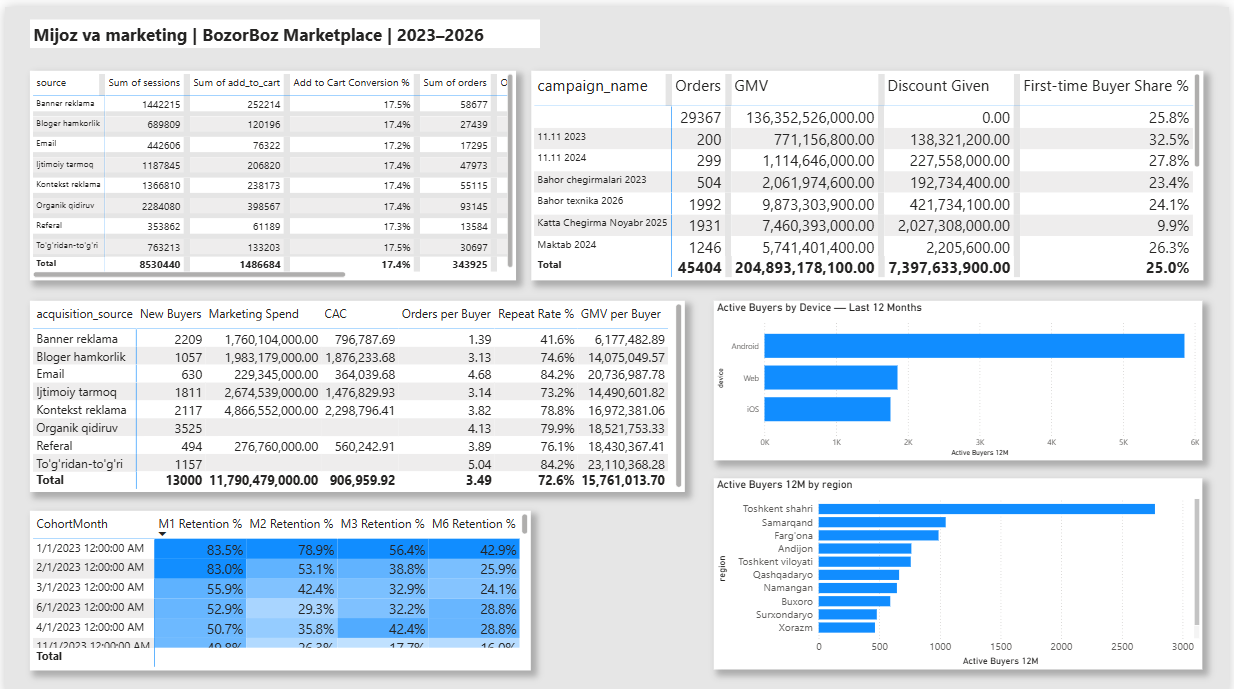

This screenshot's page, from the dashboard's own definition file:
{"tool":"powerbi","page":{"name":"Mijoz va marketing","canvas":[1920,1080],"ordinal":4},"visuals":[{"type":"textbox","box":[40,20,800,45],"z":0},{"type":"pivotTable","fields":{"Rows":["fact_session_daily.source"],"Values":["Sum(fact_session_daily.sessions)","Sum(fact_session_daily.add_to_cart)","BB_Measures.Add to Cart Conversion %","Sum(fact_session_daily.orders)","BB_Measures.Order Conversion from Cart %","BB_Measures.Conversion %"]},"box":[39.6,100,762.5,329.2],"z":1000},{"type":"pivotTable","fields":{"Rows":["dim_customer.acquisition_source"],"Values":["BB_Measures.New Buyers","BB_Measures.Marketing Spend","BB_Measures.CAC","BB_Measures.Orders per Buyer","BB_Measures.Repeat Rate %","BB_Measures.GMV per Buyer"]},"box":[39.6,460.4,1027.1,300],"z":2000},{"type":"pivotTable","fields":{"Values":["BB_Measures.M1 Retention %","BB_Measures.M2 Retention %","BB_Measures.M3 Retention %","BB_Measures.M6 Retention %"],"Rows":["Cohort.CohortMonth"]},"box":[39.6,789.6,785.4,250],"z":3000},{"type":"pivotTable","fields":{"Rows":["dim_campaign.campaign_name"],"Values":["BB_Measures.Orders","BB_Measures.GMV","BB_Measures.Discount Given","BB_Measures.First-time Buyer Share %"]},"box":[825,100,1054.2,329.2],"z":4000},{"type":"clusteredBarChart","title":"Active Buyers by Device — Last 12 Months","fields":{"Category":["dim_customer.device"],"Y":["BB_Measures.Active Buyers 12M"]},"box":[1112.5,460.4,766.7,250],"z":5000},{"type":"clusteredBarChart","fields":{"Category":["dim_customer.region"],"Y":["BB_Measures.Active Buyers 12M"]},"box":[1112.5,739.6,766.7,300],"z":6000}]}

Visuals, with their boxes in screenshot pixels (x1, y1, x2, y2), scaled from the page's 1920x1080 canvas onto the 1234x689 screenshot:
textbox: <box>26,13,540,41</box>
pivotTable - fact_session_daily.source x Sum(fact_session_daily.sessions): <box>25,64,516,274</box>
pivotTable - dim_customer.acquisition_source x BB_Measures.New Buyers: <box>25,294,686,485</box>
pivotTable - BB_Measures.M1 Retention % x BB_Measures.M2 Retention %: <box>25,504,530,663</box>
pivotTable - dim_campaign.campaign_name x BB_Measures.Orders: <box>530,64,1208,274</box>
"Active Buyers by Device — Last 12 Months" clusteredBarChart: <box>715,294,1208,453</box>
clusteredBarChart - dim_customer.region x BB_Measures.Active Buyers 12M: <box>715,472,1208,663</box>
